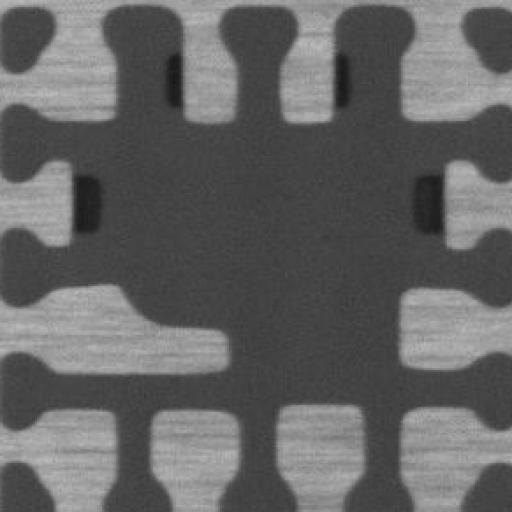NO_DIE: (39, 68, 477, 462)
